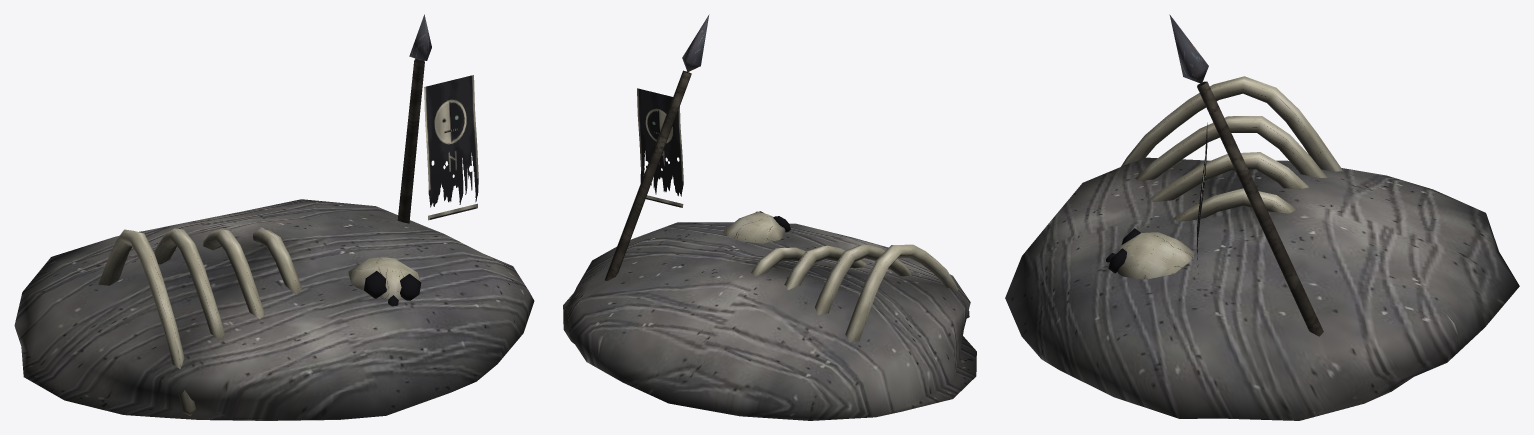
Rendered from helheim_ash_drift_b.glb.
The picture shows the model from 3 angles, left to right: view 1: azimuth 30°, elevation 25°; view 2: azimuth 150°, elevation 25°; view 3: azimuth 270°, elevation 25°; orthographic projection. The views are drawn at different scales.
Visible parts, largest first — view 1: helheim_ash_drift_b; view 2: helheim_ash_drift_b; view 3: helheim_ash_drift_b.
Boxes of the visible parts, x1,y1,x2,y2 form: helheim_ash_drift_b: [14, 14, 534, 420]; helheim_ash_drift_b: [563, 14, 976, 420]; helheim_ash_drift_b: [1005, 14, 1519, 420].
Bounding box in the file's own units: 2.02 × 1.36 × 1.82.
Materials: 6 (5 with a texture image).
